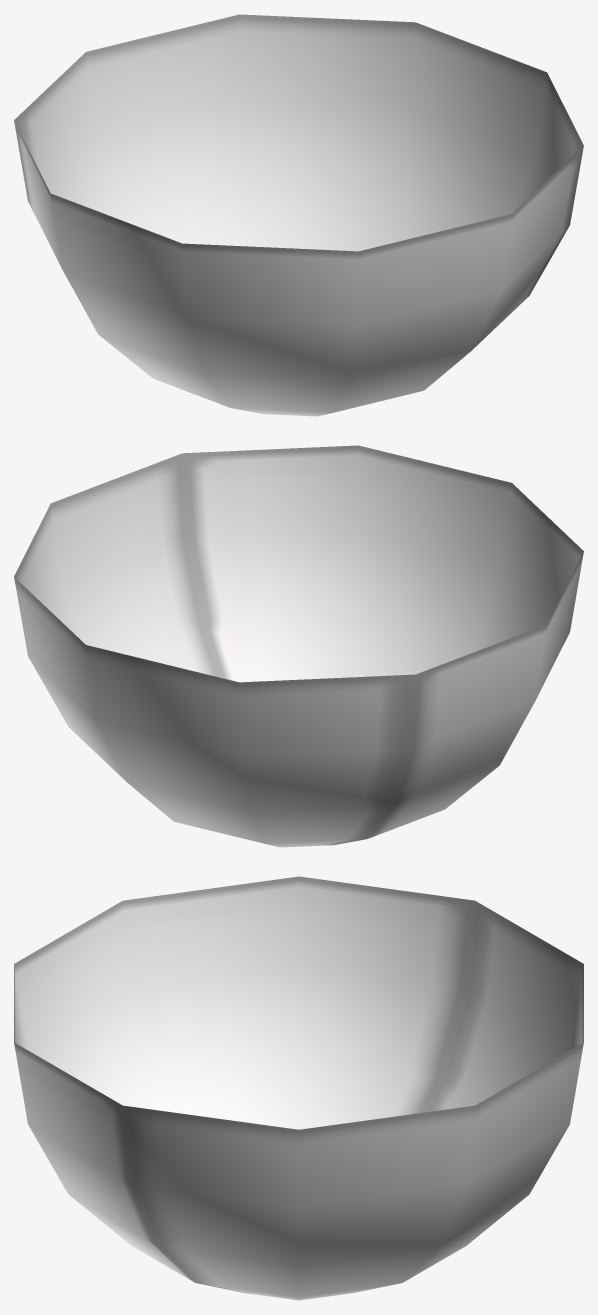
The model's file is SM_ENV_KNFRST_BottomSphere_A.FBX.
The picture shows the model from 3 angles, top to bottom: view 1: azimuth 30°, elevation 25°; view 2: azimuth 150°, elevation 25°; view 3: azimuth 270°, elevation 25°; orthographic projection. The views are drawn at different scales.
Parts seen in each view (by area): view 1: SM_ENV_KNFRST_BottomSphere_A; view 2: SM_ENV_KNFRST_BottomSphere_A; view 3: SM_ENV_KNFRST_BottomSphere_A.
Part boxes in pixels (left/top/right/bottom): SM_ENV_KNFRST_BottomSphere_A: left=14, top=14, right=583, bottom=416; SM_ENV_KNFRST_BottomSphere_A: left=14, top=445, right=583, bottom=847; SM_ENV_KNFRST_BottomSphere_A: left=14, top=876, right=583, bottom=1300.
Size of the model in its own units: 25554 by 12777 by 24303.
